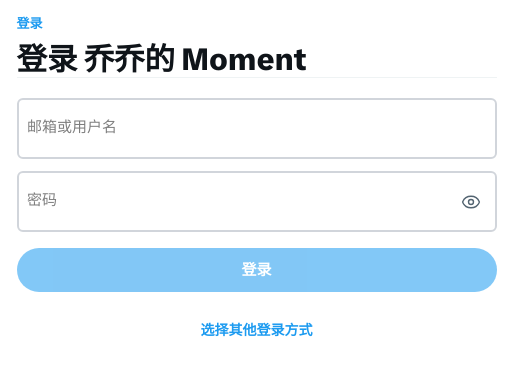
Test: owner login offers the methods the server reports › asks for a password by default and keeps the token one step back
The image size is (514, 369).
Check: the password field labelled "密码" is shown, box [18,173,494,230]
Check: the field labelled "API 令牌" is not shown
Click the button "选择其他登录方式" at (256, 330), box [184,308,328,352]
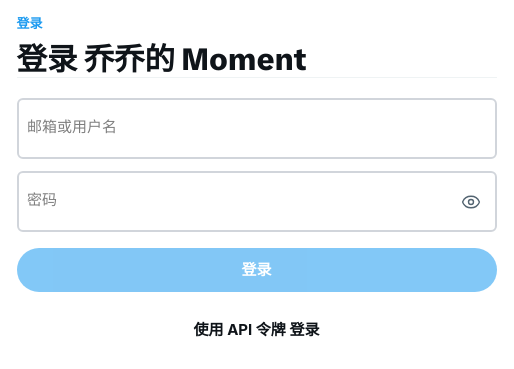
Click the button "使用 API 令牌 登录" at (256, 330), box [16,308,496,352]
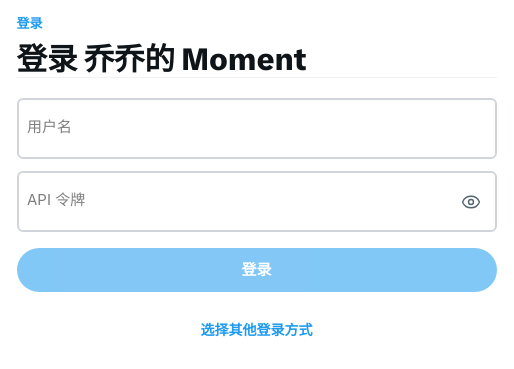
Check: the password field labelled "API 令牌" is shown, box [18,173,494,230]
Check: the label labelled "密码" is gone
